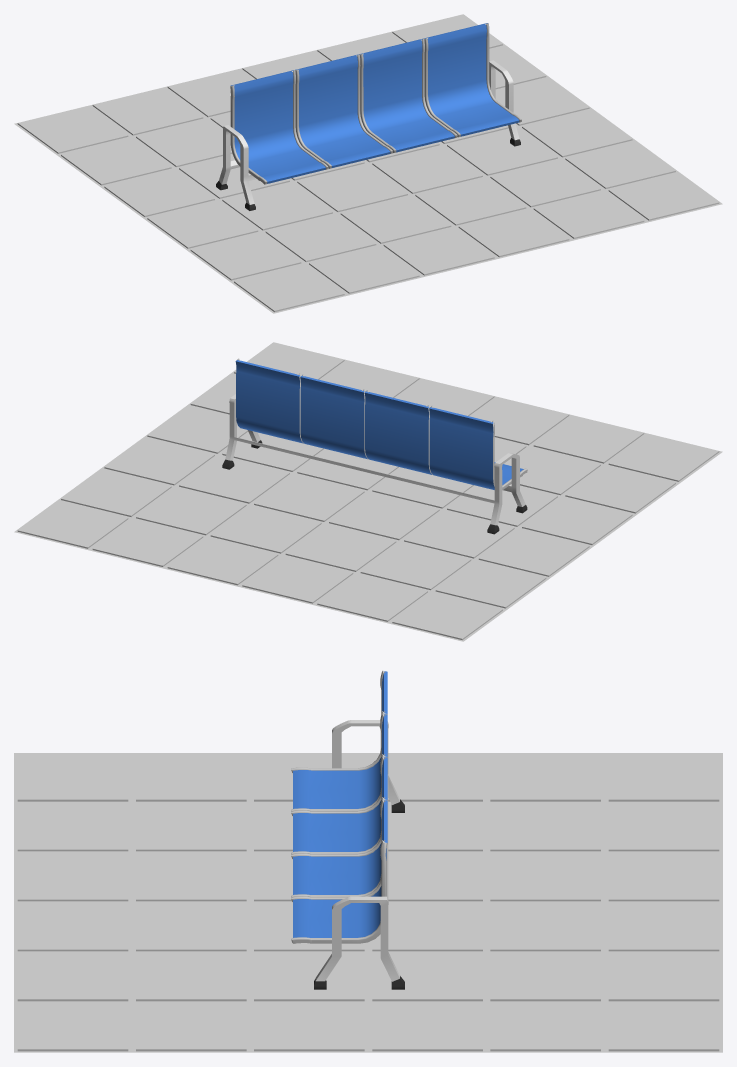
The model's file is bench.glb.
The picture shows the model from 3 angles, top to bottom: view 1: azimuth 30°, elevation 25°; view 2: azimuth 150°, elevation 25°; view 3: azimuth 270°, elevation 25°; orthographic projection. The views are drawn at different scales.
Parts seen in each view (by area): view 1: Plane.001_Material.005_0, Plane_Material.001_0, Plane_Material.002_0, Cube_Material.003_0; view 2: Plane.001_Material.005_0, Plane_Material.001_0, Cube_Material.003_0, Plane_Material.002_0; view 3: Plane.001_Material.005_0, Plane_Material.001_0, Cube_Material.003_0, Plane_Material.002_0.
Boxes of the visible parts, bbox=[...] form: Plane.001_Material.005_0: bbox=[14, 14, 722, 313]; Plane_Material.001_0: bbox=[231, 23, 519, 183]; Plane_Material.002_0: bbox=[230, 23, 521, 184]; Cube_Material.003_0: bbox=[219, 60, 519, 204]; Plane.001_Material.005_0: bbox=[14, 342, 722, 641]; Plane_Material.001_0: bbox=[235, 360, 523, 489]; Cube_Material.003_0: bbox=[225, 394, 525, 525]; Plane_Material.002_0: bbox=[237, 358, 527, 490]; Plane.001_Material.005_0: bbox=[14, 753, 722, 1052]; Plane_Material.001_0: bbox=[293, 671, 387, 937]; Cube_Material.003_0: bbox=[315, 720, 399, 981]; Plane_Material.002_0: bbox=[291, 670, 387, 943].
Size of the model in its own units: 3.83 by 0.8716 by 3.83.
